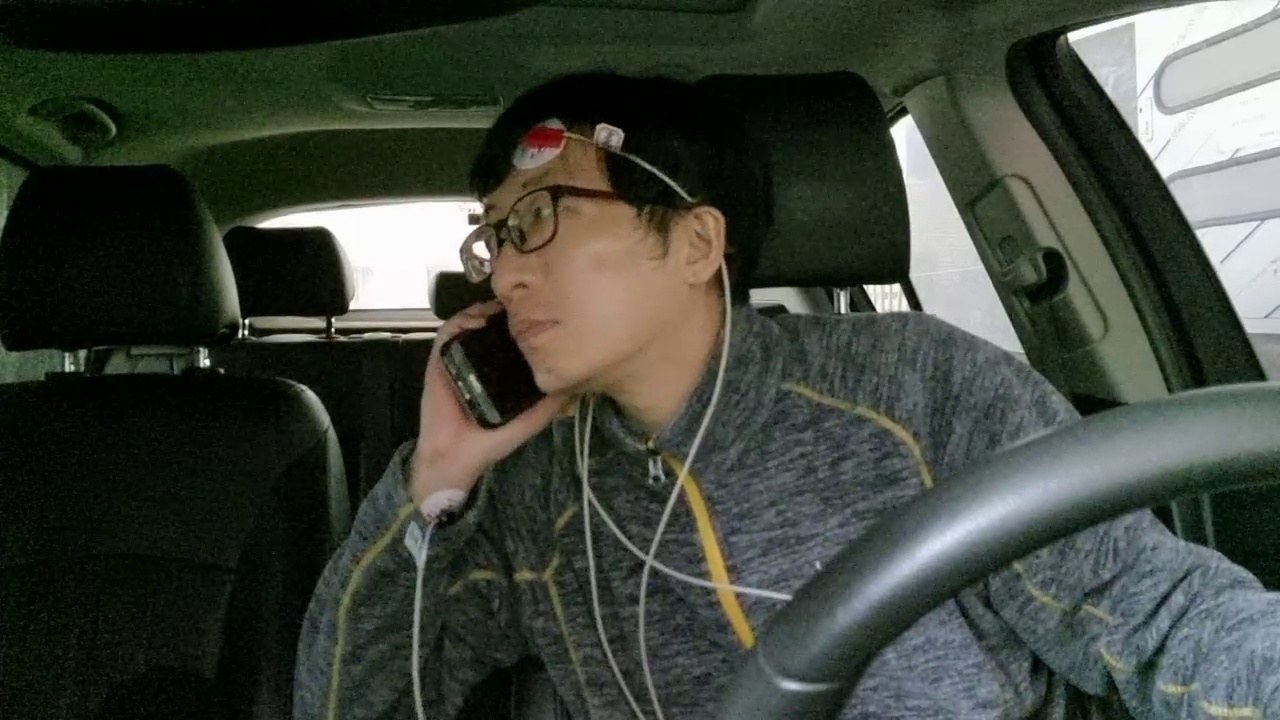phone: (413, 275, 576, 475)
